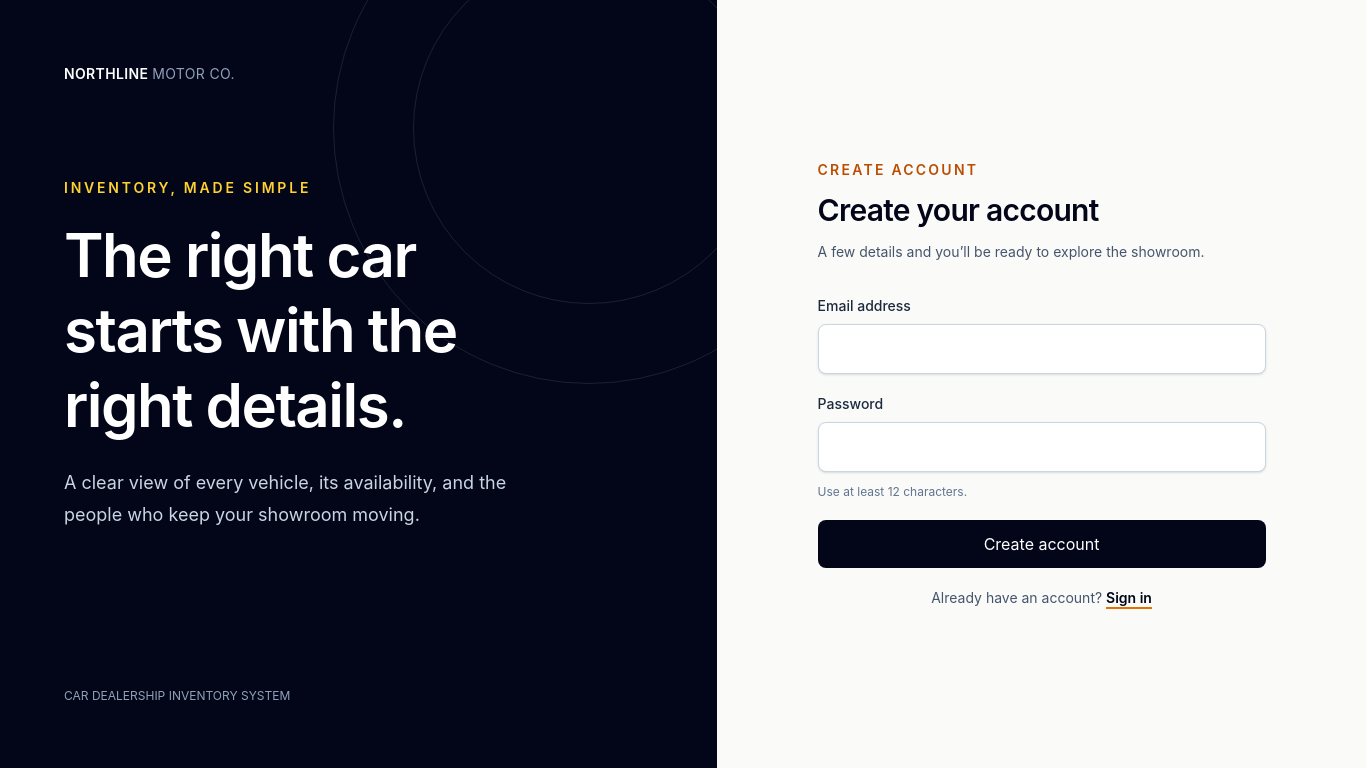
it: dealership application › registers a customer, saves the session, and loads real inventory through the API client
This screenshot has width=1366, height=768.
Type "customer@example.test" into the field labelled "Email address" at (1042, 349), box x1=818 y1=324 x2=1266 y2=374
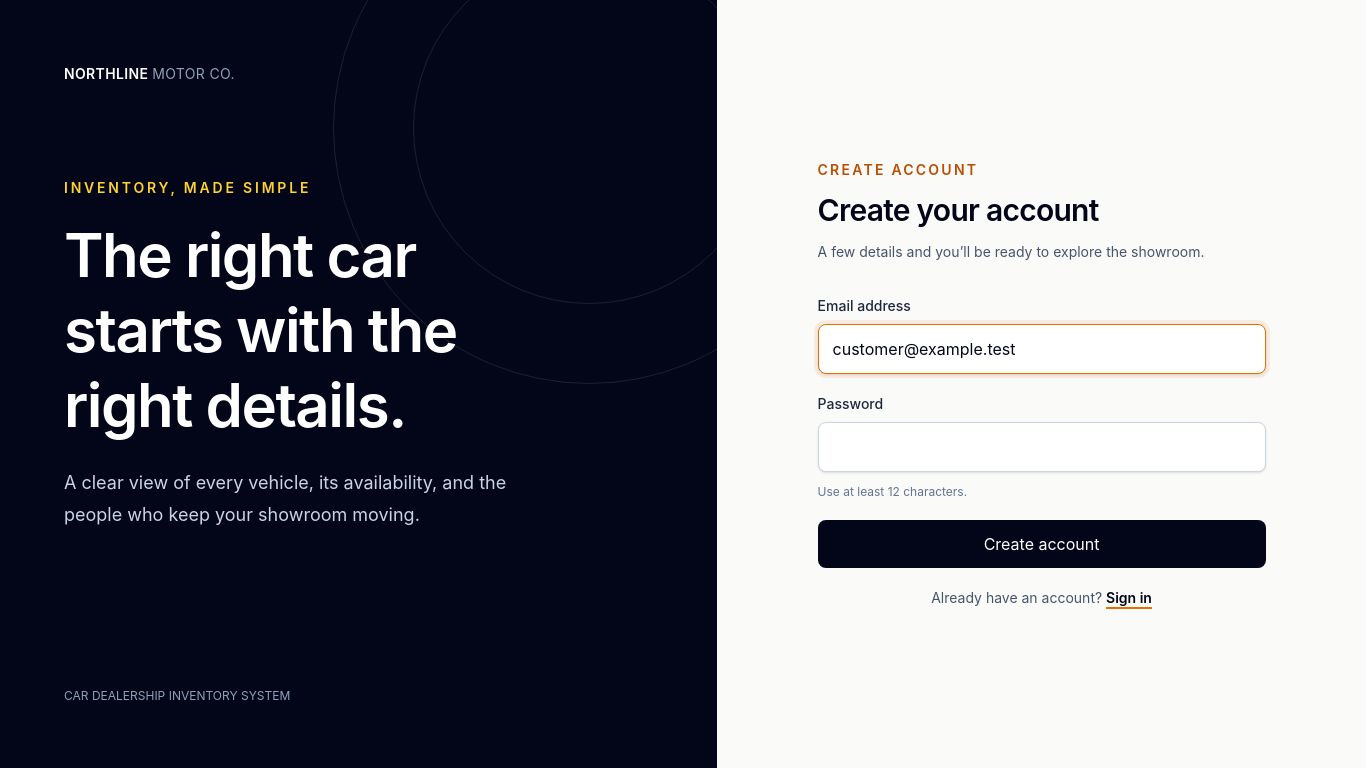
Type "a-safe-password-123" into the password field labelled "Password" at (1042, 447), box x1=818 y1=422 x2=1266 y2=472
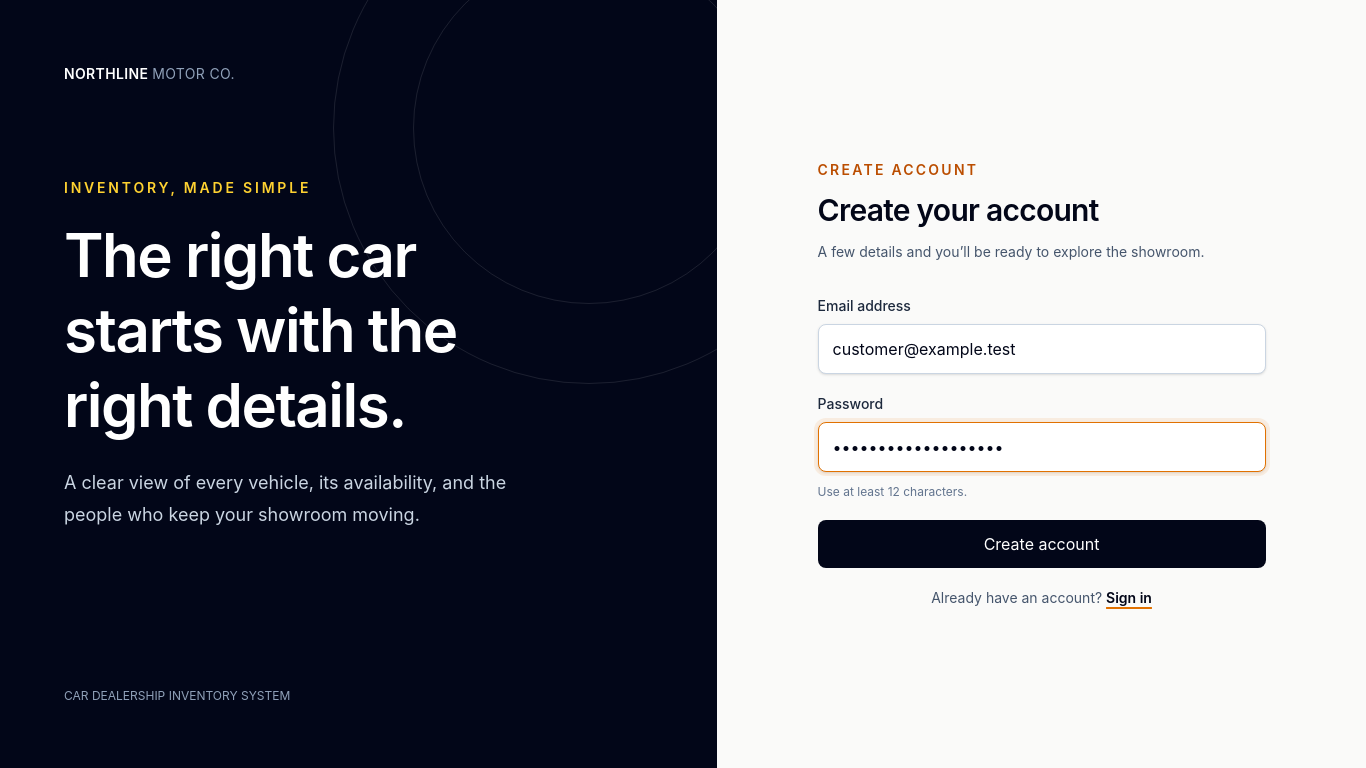
Click the button "Create account" at (1042, 544), box x1=818 y1=520 x2=1266 y2=568
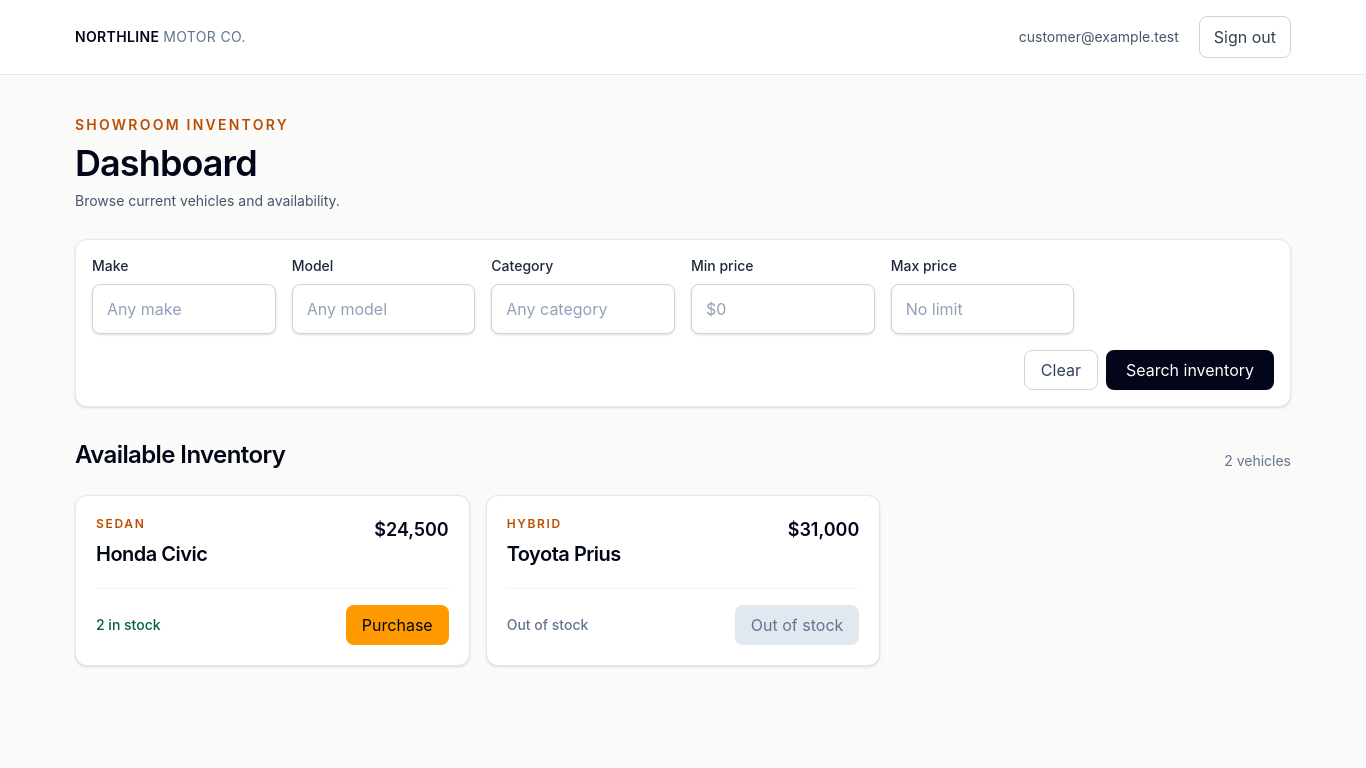
Expected: the heading "Available Inventory" is shown, x1=75 y1=439 x2=285 y2=471
Expected: the heading "Honda Civic" is shown, x1=96 y1=540 x2=207 y2=568
Expected: the heading "Toyota Prius" is shown, x1=507 y1=540 x2=621 y2=568
